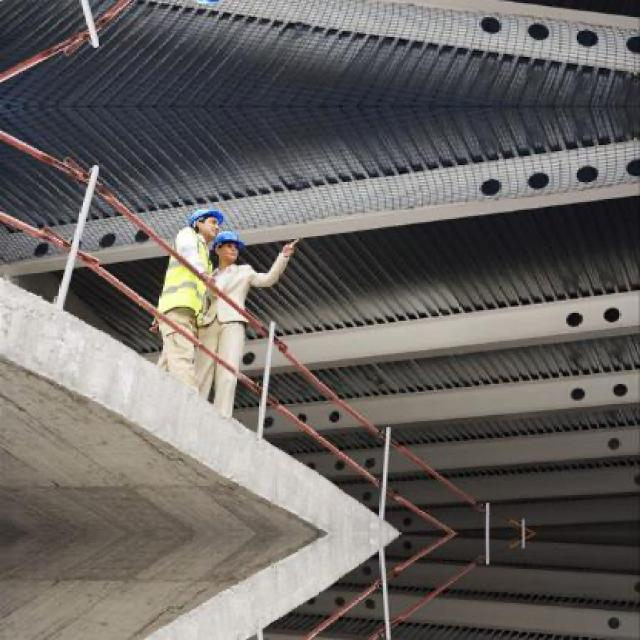helmet: (216, 228, 247, 265), (189, 205, 225, 236), (189, 0, 226, 9)
